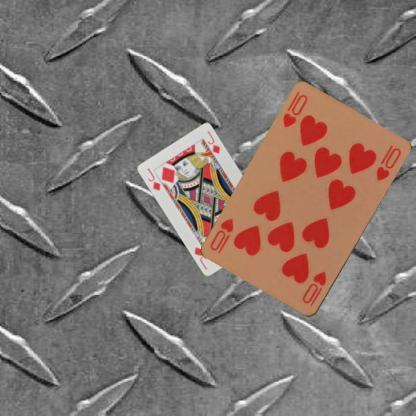10h: (280, 89, 309, 129), (299, 269, 328, 308)
Jd: (145, 165, 162, 192)
